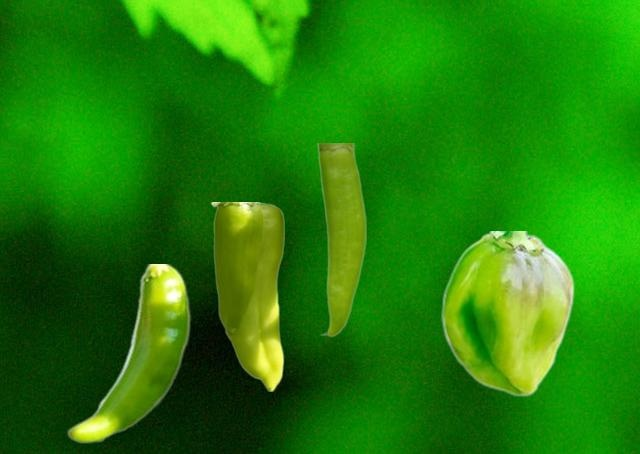green_chili: (66, 264, 190, 443), (441, 231, 574, 396), (210, 202, 283, 390), (316, 143, 365, 336)
